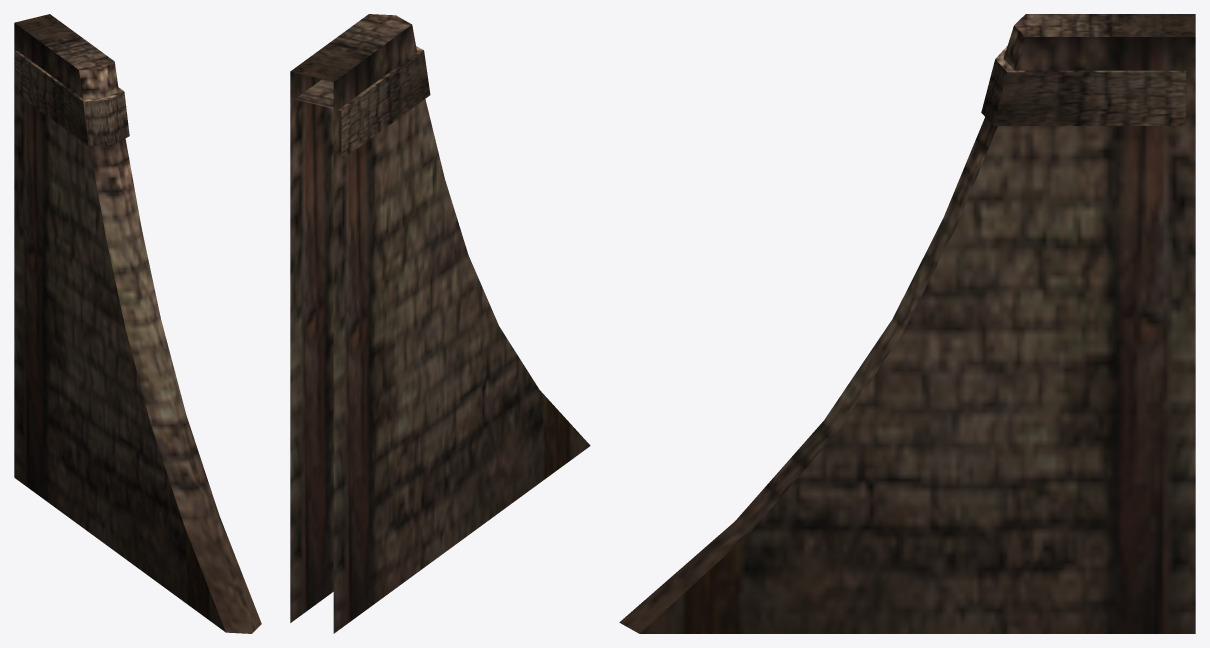
3 views of the same model, side by side, from view 1: azimuth 30°, elevation 25°; view 2: azimuth 150°, elevation 25°; view 3: azimuth 270°, elevation 25° (orthographic). The views are drawn at different scales.
Visible parts, largest first — view 1: wj31; view 2: wj31; view 3: wj31.
Boxes of the visible parts, <box> form: wj31: <box>14,14,261,633</box>; wj31: <box>290,14,590,633</box>; wj31: <box>619,14,1195,633</box>.
Size of the model in its own units: 128 by 1351 by 1183.
